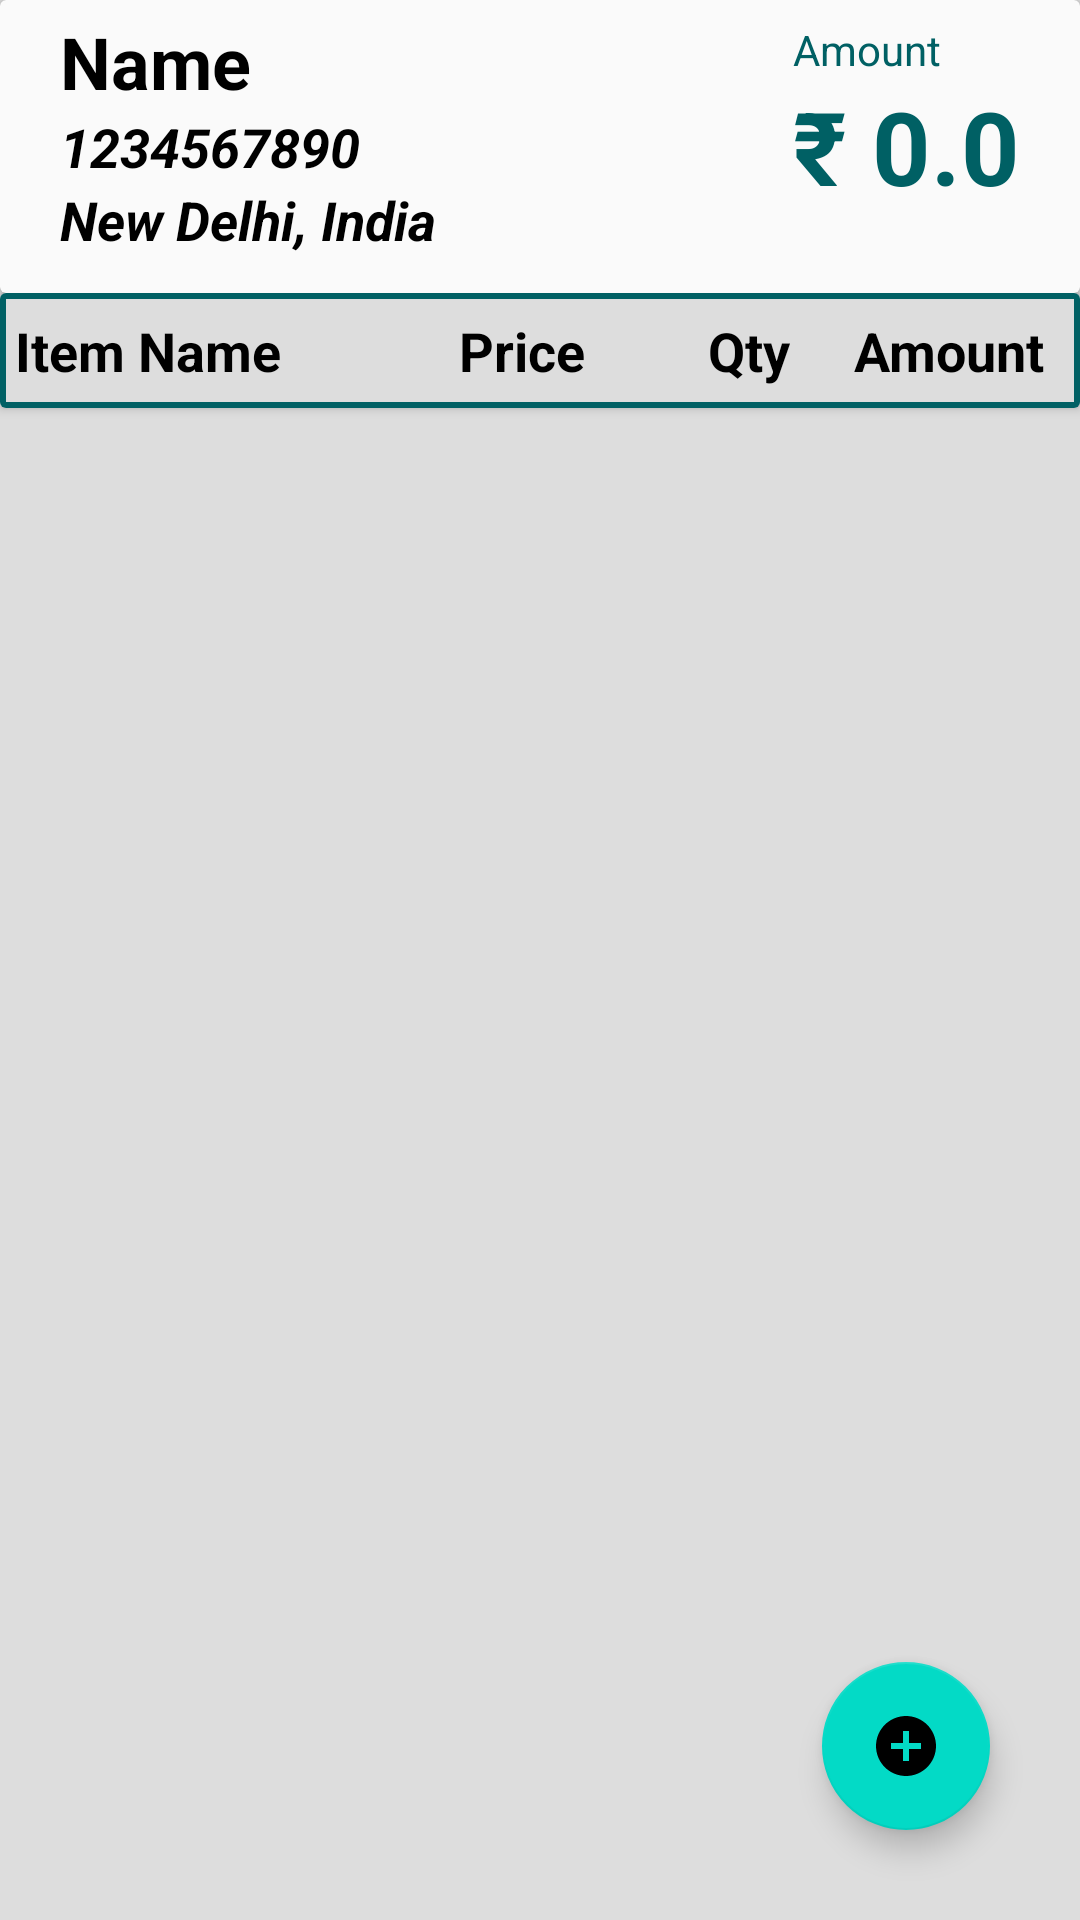

Icons on this 1080px×1920px Android screen, each with its box as (x1, y1, x2, y2):
Add New Item: (822, 1662, 990, 1830)
